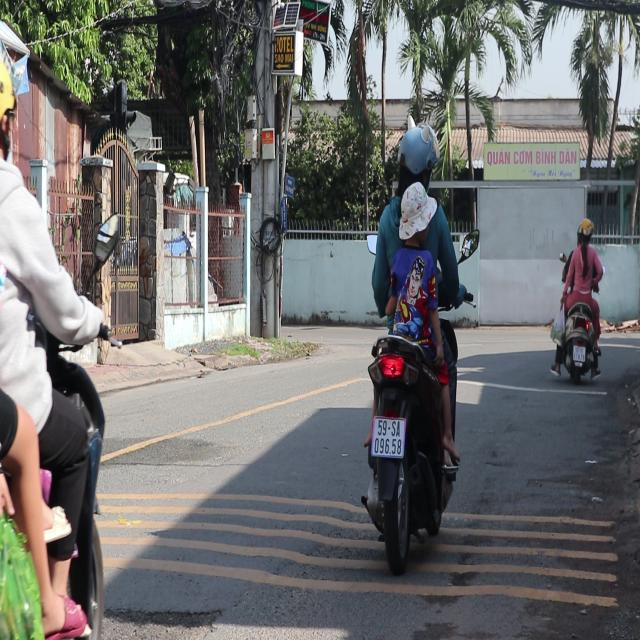helmet: (396, 122, 437, 195)
licenseplate: (359, 117, 468, 562)
motorcyclist: (398, 180, 438, 244)
nohelmet: (372, 416, 404, 456)
